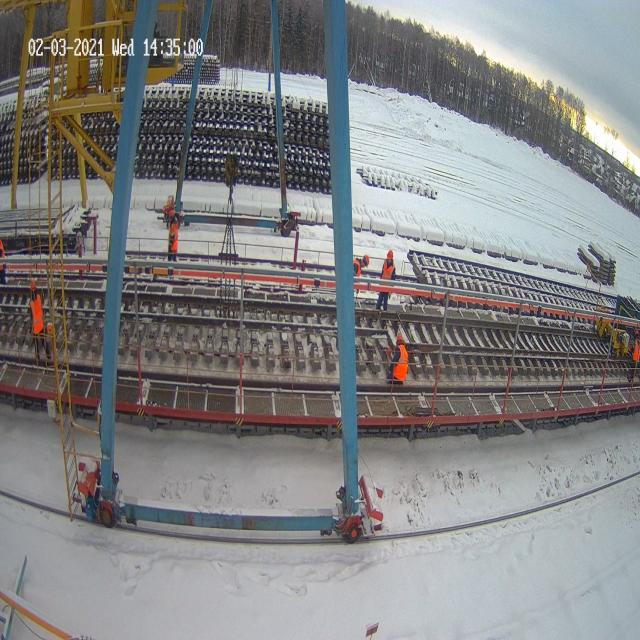Helmet: (396, 334, 403, 344), (387, 250, 393, 260), (30, 281, 36, 290), (364, 255, 369, 265)
Person: (29, 280, 52, 363), (164, 200, 185, 264), (376, 250, 395, 311), (386, 333, 408, 382), (353, 254, 369, 293), (0, 239, 7, 284), (633, 330, 640, 373)
